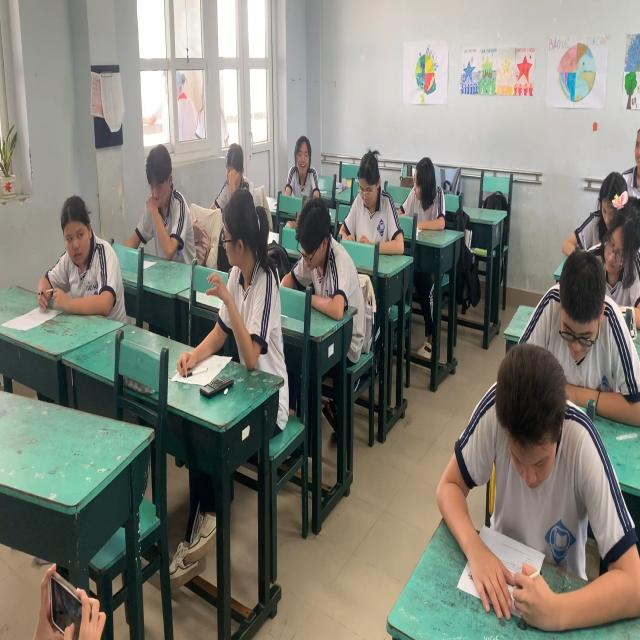cheating: (198, 169, 276, 409), (25, 178, 118, 344), (124, 121, 189, 260), (396, 149, 464, 244), (279, 110, 324, 208)
not_cheating: (420, 363, 598, 633), (498, 269, 603, 463), (258, 210, 340, 360), (536, 180, 612, 325), (336, 132, 401, 253), (582, 139, 634, 263), (214, 120, 259, 204)
